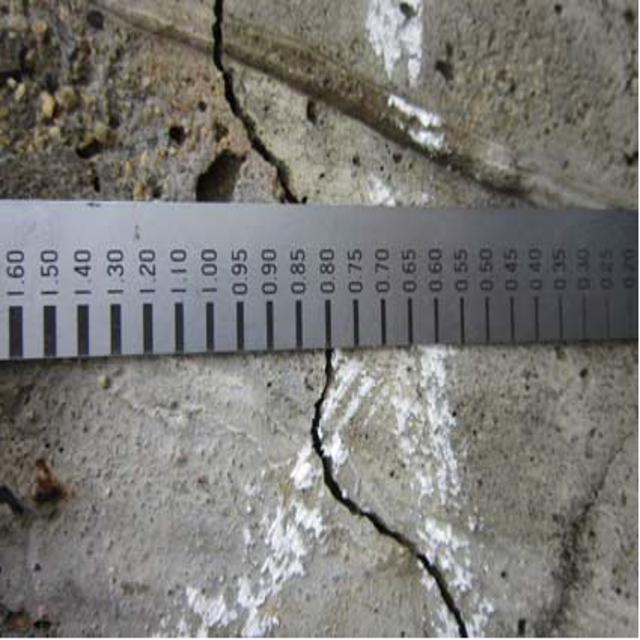crack: (297, 356, 470, 637), (194, 6, 309, 200)
